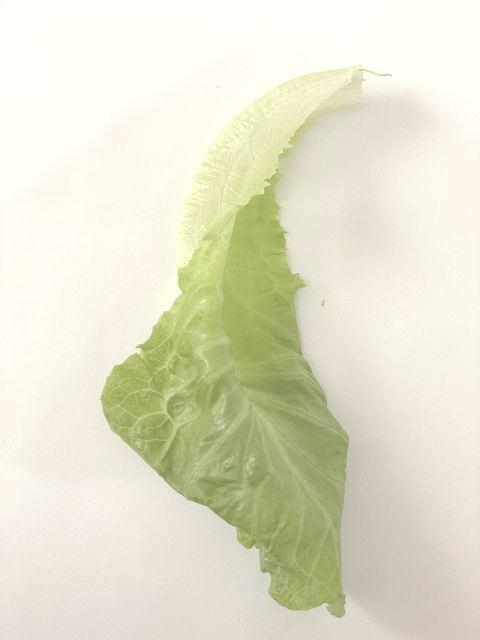lettuce: (101, 65, 365, 618)
